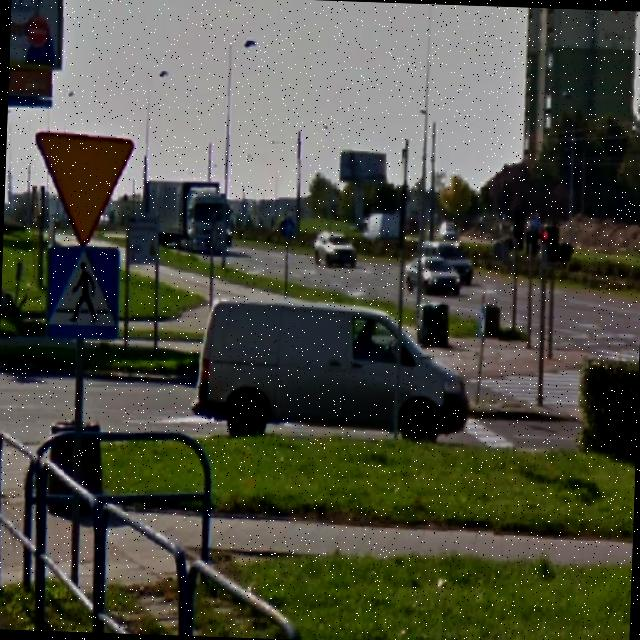Przejscie dla pieszych: (48, 242, 120, 336)
Ustap pierwszenstwa: (34, 130, 130, 248)
